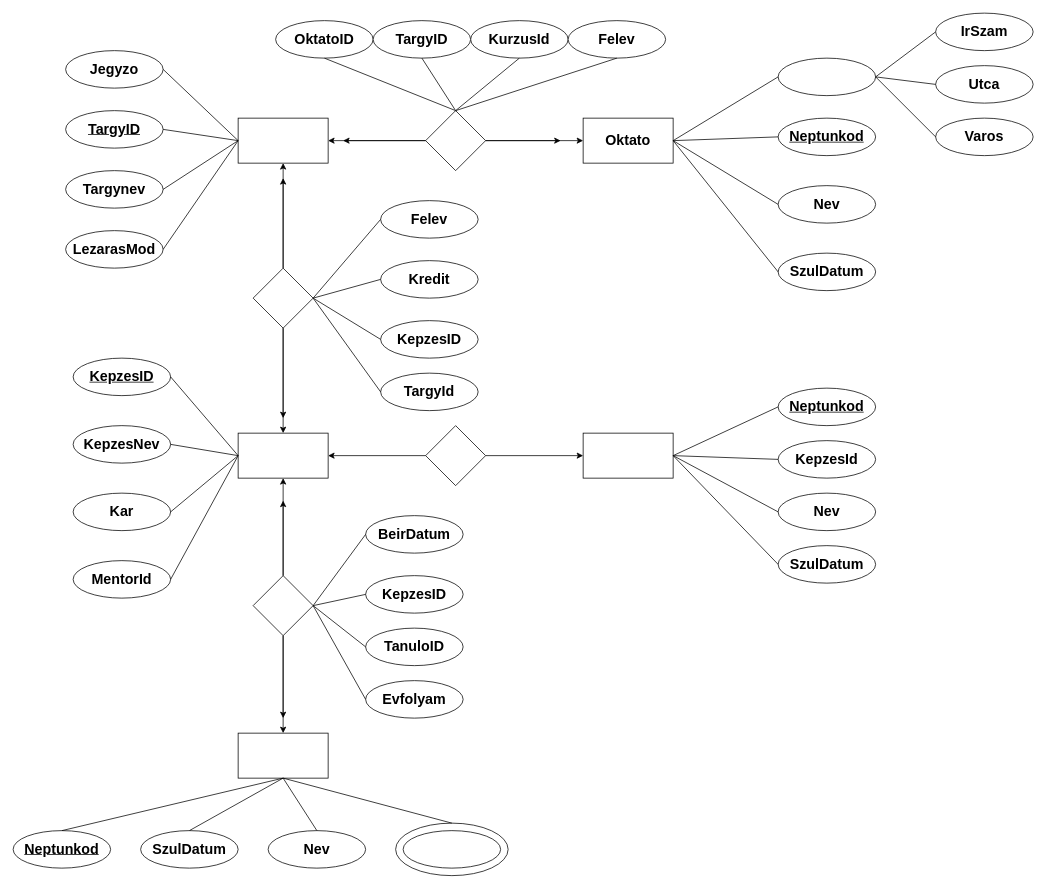
This 1046x889 diagram has some shape labels left out. Each missing label, with the centre of its shape:
"Jelentkezes" goes at (282,605).
"Kepzes" goes at (282,455).
"Kurzus" goes at (455,140).
"Lakcim" goes at (826,76).
"Mentor" goes at (627,455).
"Tantargy" goes at (282,140).
"Tanulo" goes at (282,755).
"TelSzam" goes at (451,849).
"Utemterv" goes at (282,297).
